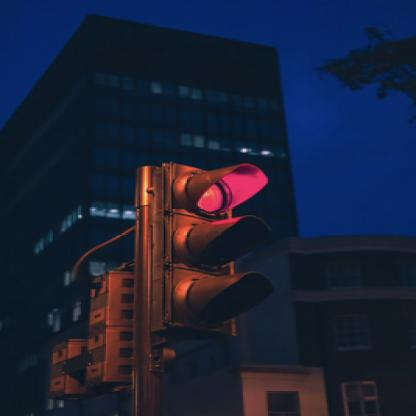trafficlight: (146, 158, 272, 339)
